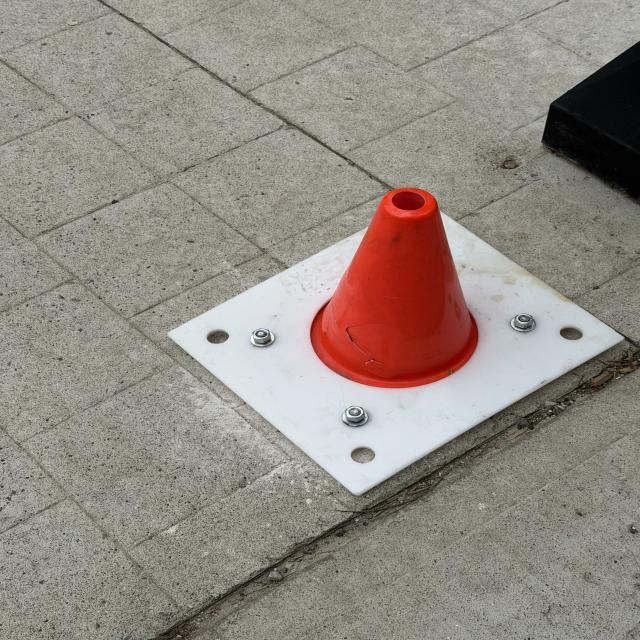Traffic Cone: (309, 185, 484, 388)
